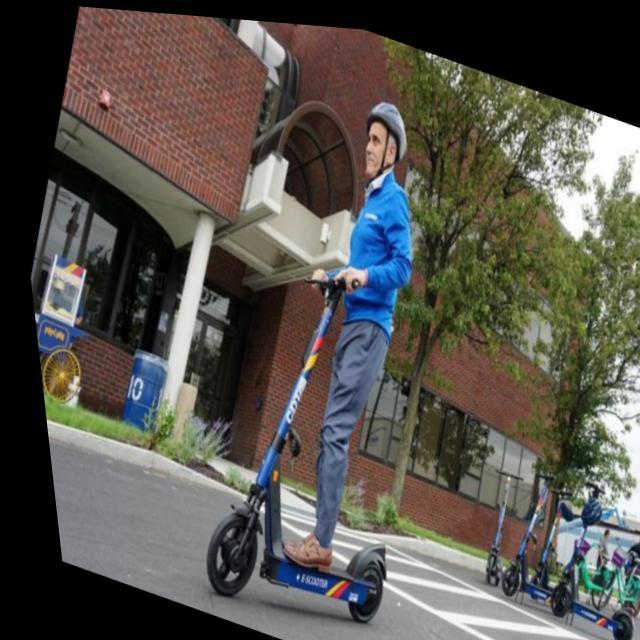Helmet: (358, 95, 413, 187)
